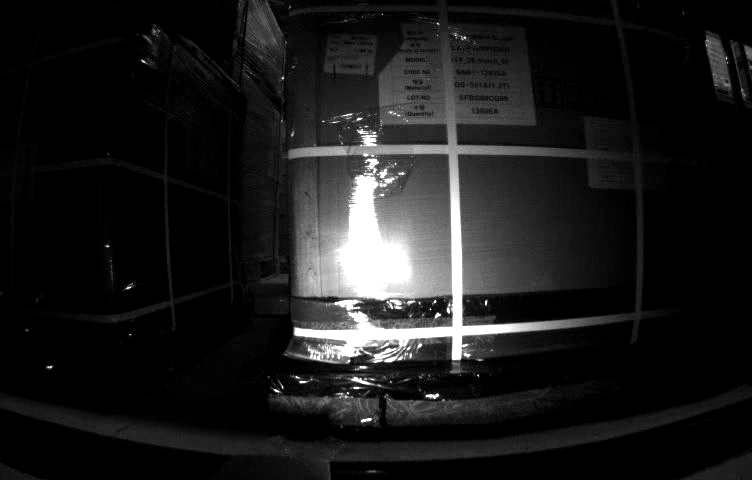True Barcode: (325, 32, 376, 76)
